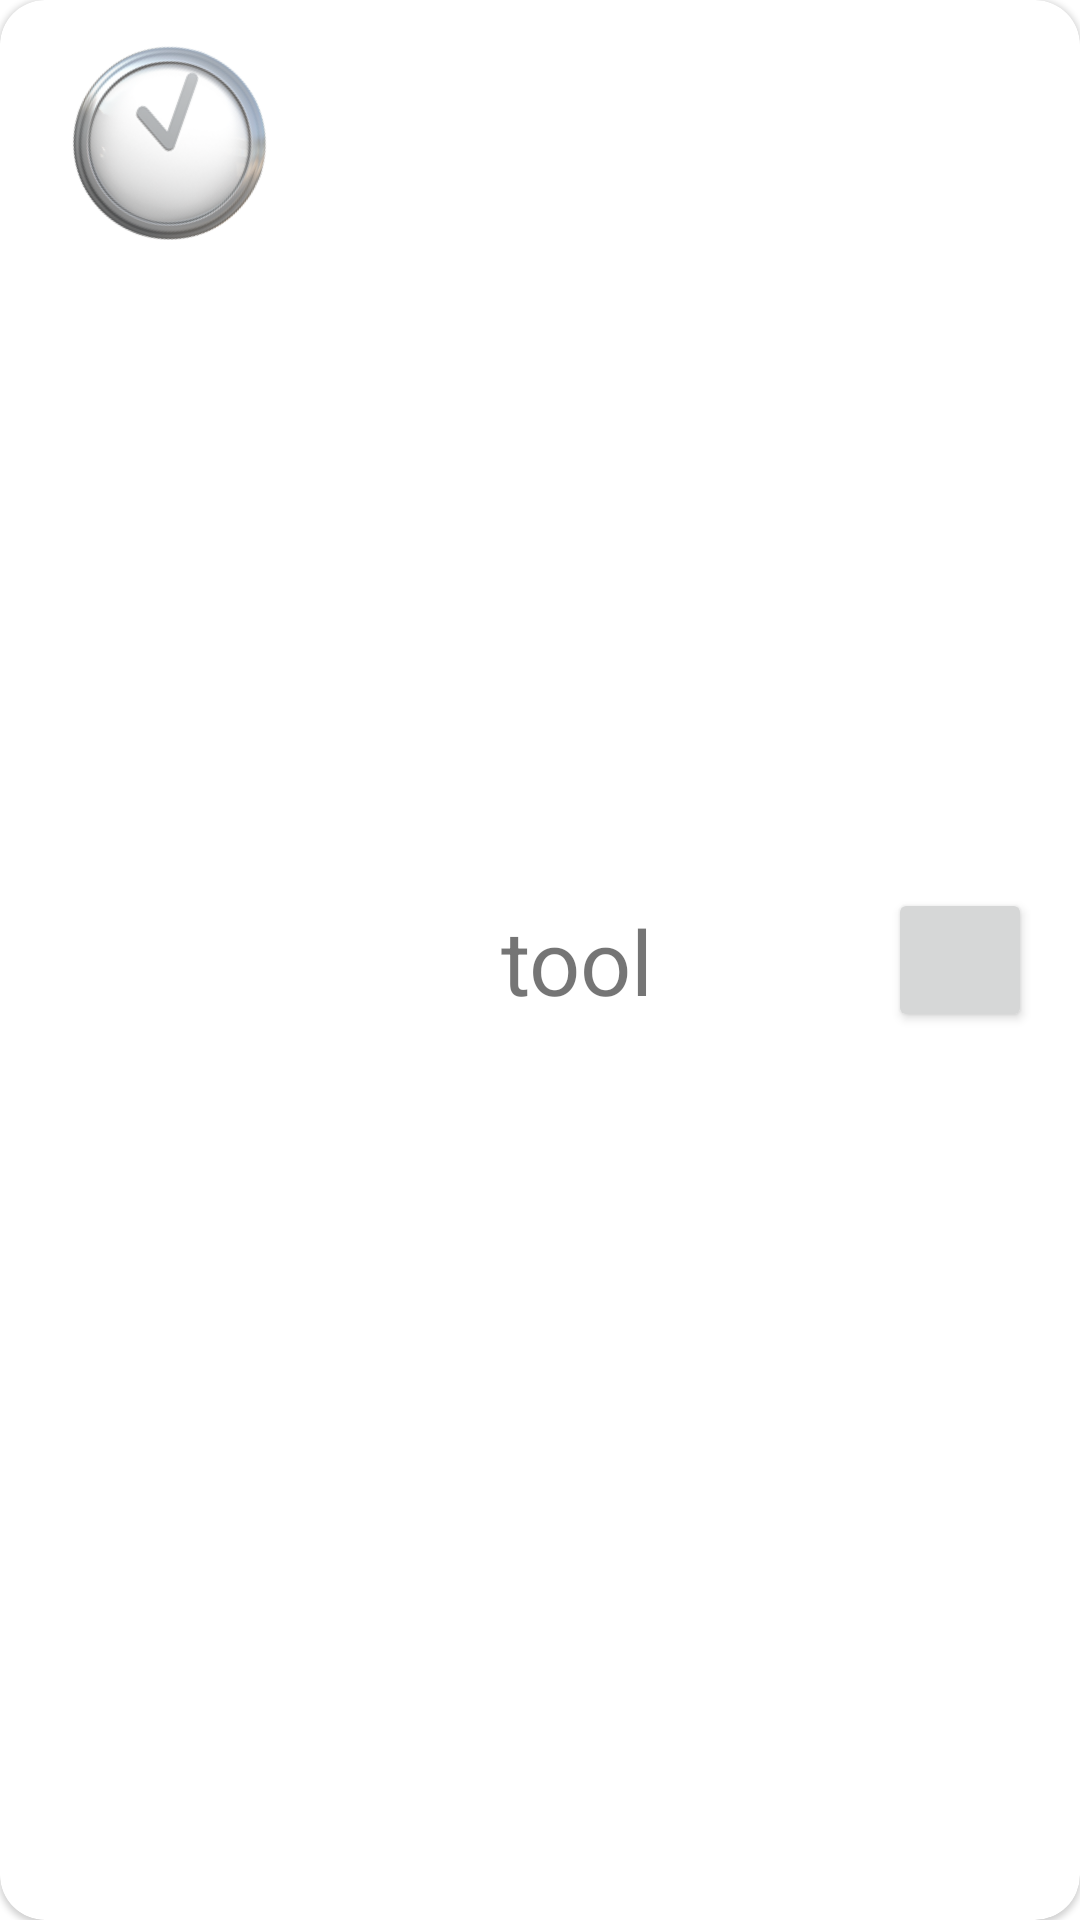

Named icons in this screenshot (1080w x 1920h) and their centers, point (x, y):
timer: point (169, 143)
